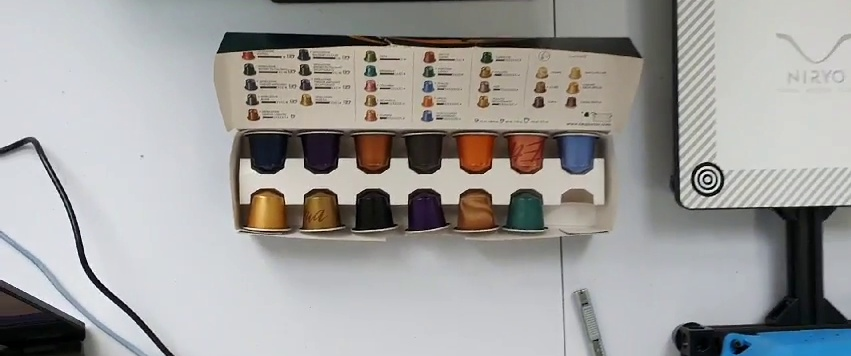capsule_1: (241, 128, 293, 176)
capsule_10: (350, 185, 398, 235)
capsule_11: (403, 190, 452, 235)
capsule_12: (454, 190, 499, 234)
capsule_13: (503, 190, 549, 235)
capsule_2: (296, 128, 345, 174)
capsule_3: (348, 128, 399, 176)
capsule_4: (400, 130, 448, 175)
capsule_5: (453, 128, 497, 176)
capsule_6: (503, 130, 550, 176)
capsule_7: (554, 131, 602, 175)
capsule_8: (243, 187, 292, 239)
capsule_9: (296, 190, 346, 236)
